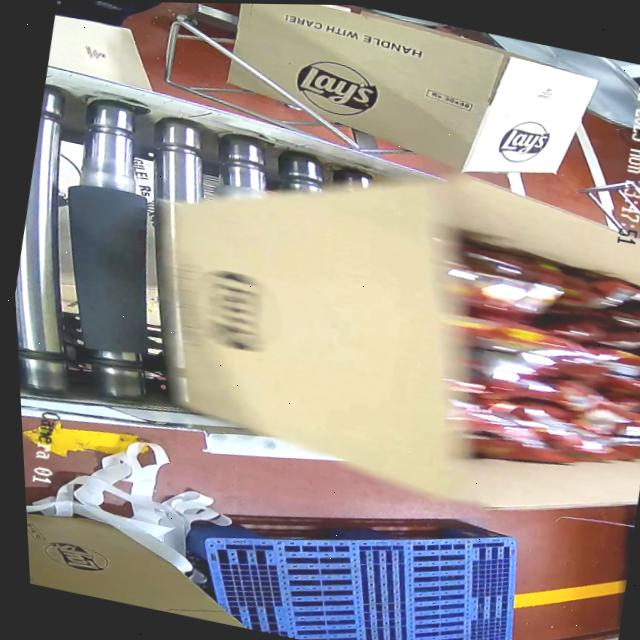MASALA: (412, 233, 640, 488)
